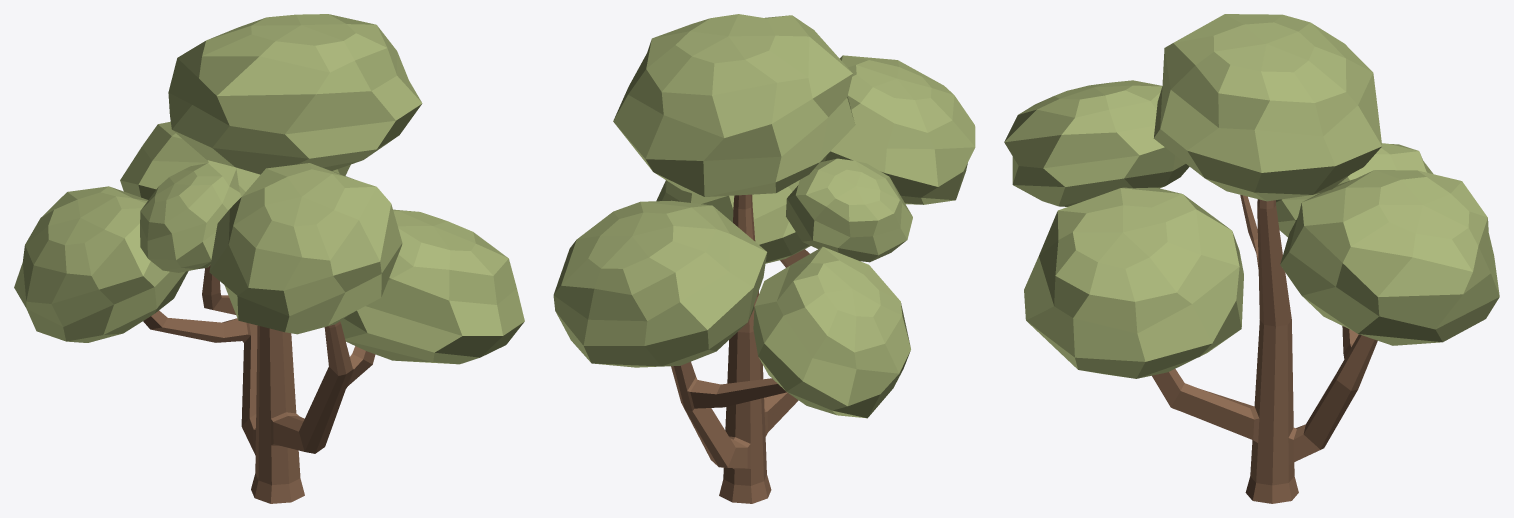
Rendered from Leaves_05.fbx.
3 renders of one model, left to right at view 1: azimuth 30°, elevation 25°; view 2: azimuth 150°, elevation 25°; view 3: azimuth 270°, elevation 25°, orthographic. The views are drawn at different scales.
Parts seen in each view (by area): view 1: Leaves_05; view 2: Leaves_05; view 3: Leaves_05.
Boxes of the visible parts, left/top/right/bottom form: Leaves_05: left=14, top=14, right=524, bottom=503; Leaves_05: left=553, top=14, right=975, bottom=503; Leaves_05: left=1004, top=14, right=1499, bottom=503.
Bounding box in the file's own units: 344 × 422 × 411.
